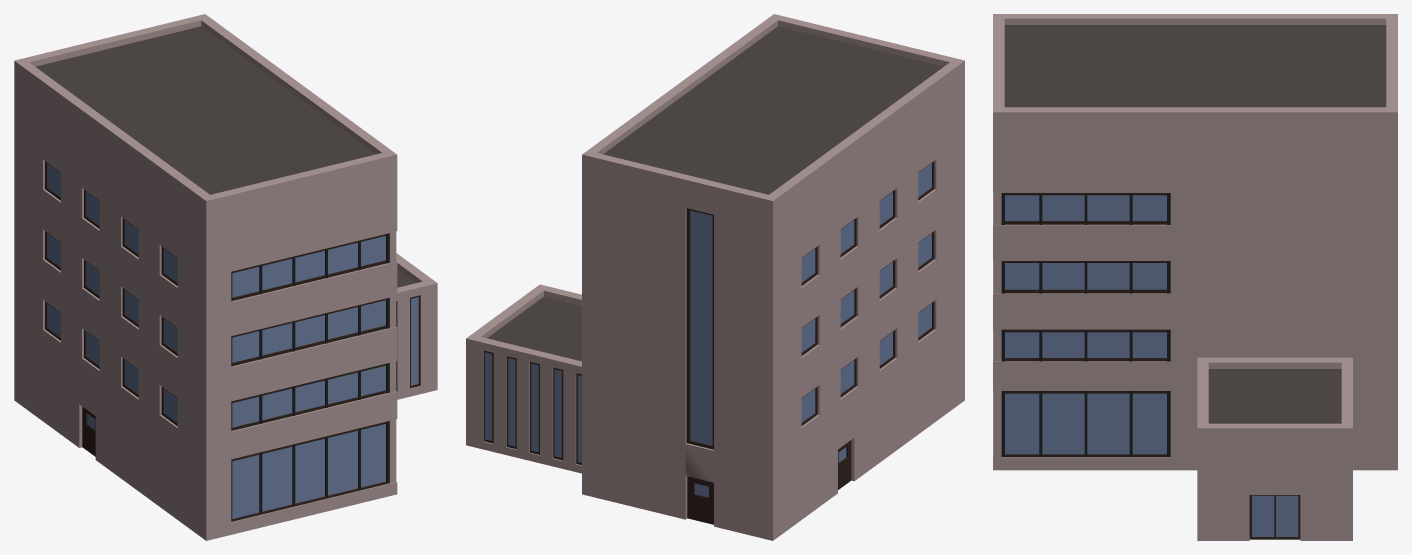
The model's file is Building_Misc_03.fbx.
3 views of the same model, side by side, from view 1: azimuth 30°, elevation 25°; view 2: azimuth 150°, elevation 25°; view 3: azimuth 270°, elevation 25° (orthographic). The views are drawn at different scales.
Parts seen in each view (by area): view 1: Building_Misc_03; view 2: Building_Misc_03; view 3: Building_Misc_03.
Boxes of the visible parts, left/top/right/bottom form: Building_Misc_03: left=14, top=14, right=437, bottom=540; Building_Misc_03: left=466, top=14, right=964, bottom=540; Building_Misc_03: left=993, top=14, right=1397, bottom=540.
Bounding box in the file's own units: 19 × 18.8 × 19.25.
